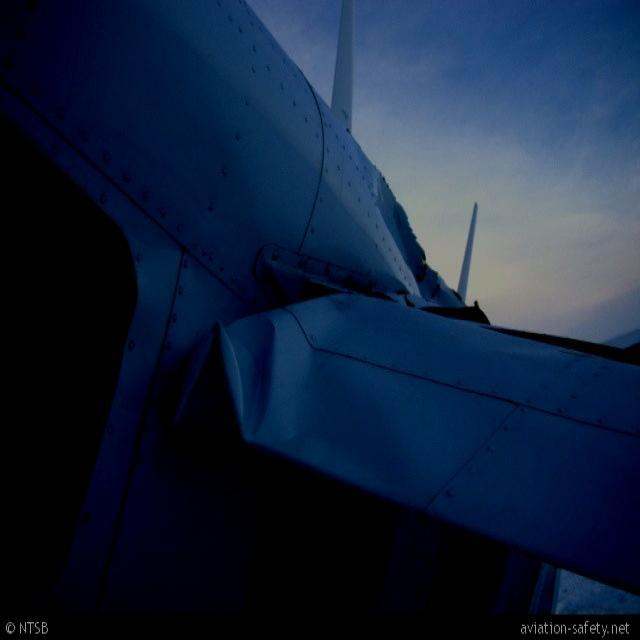dent: (214, 320, 292, 439)
